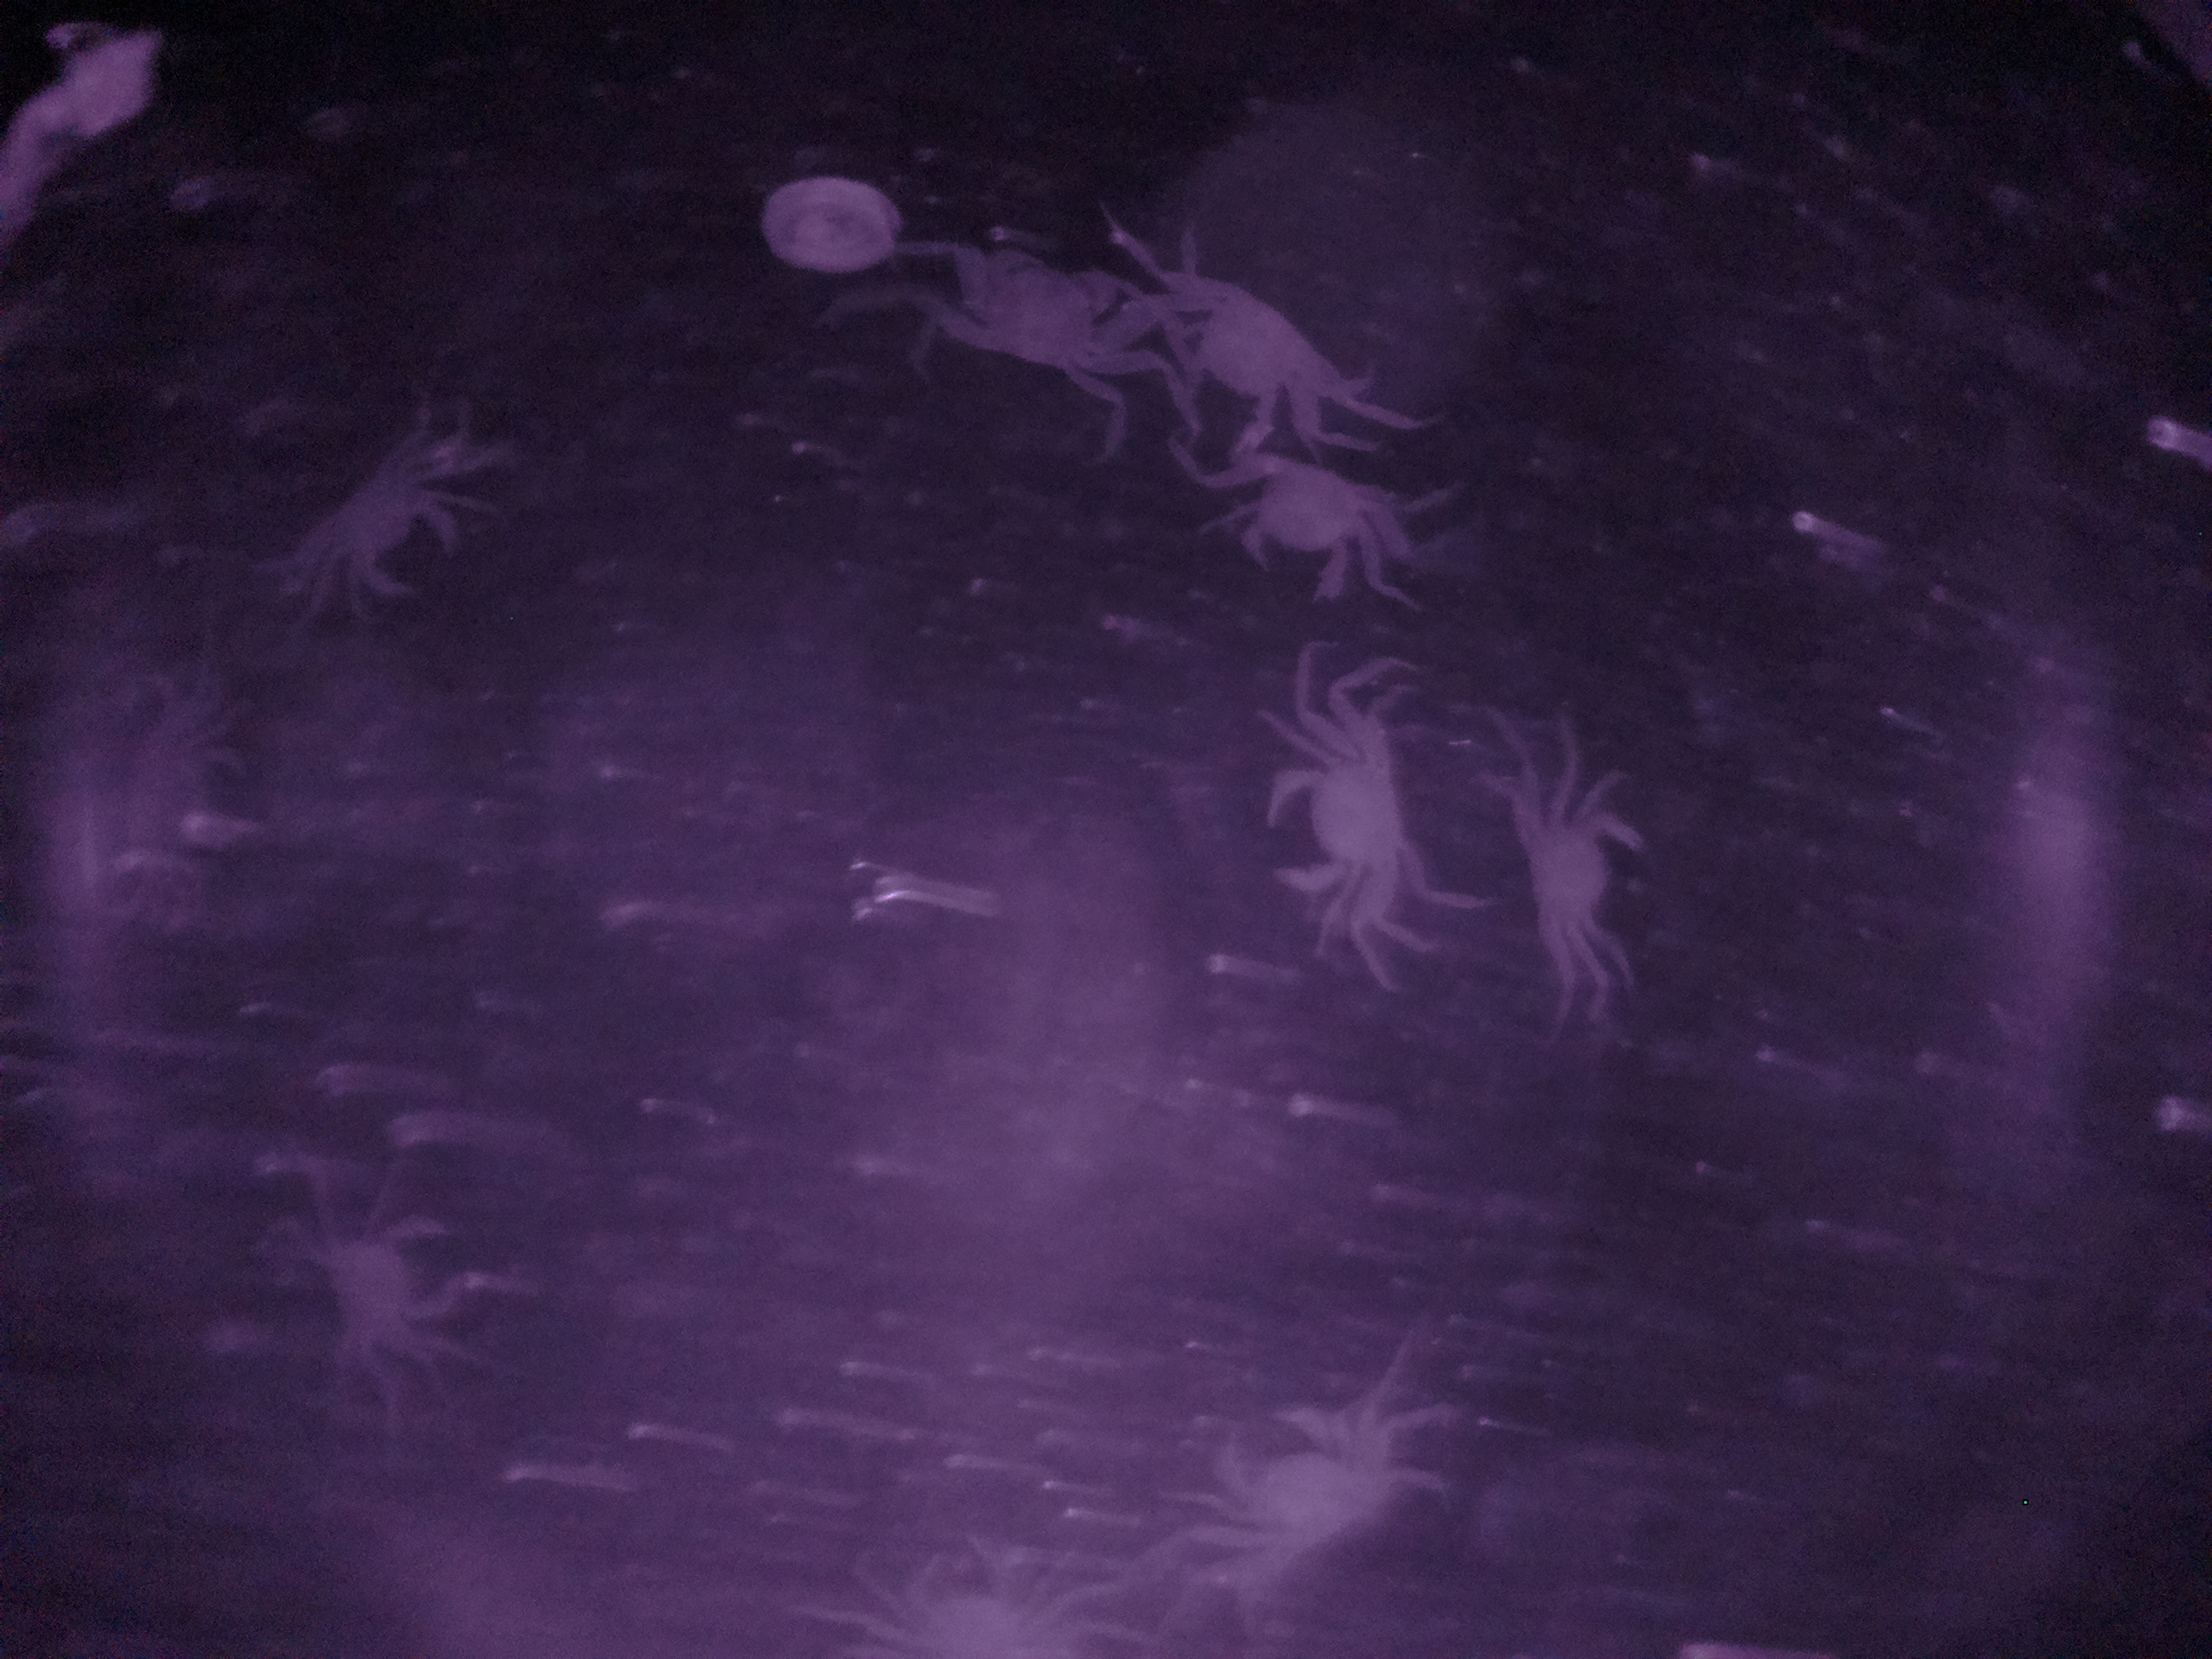Crab: (1165, 251, 1378, 467), (928, 216, 1153, 410), (1254, 718, 1430, 918), (1501, 770, 1655, 971)
